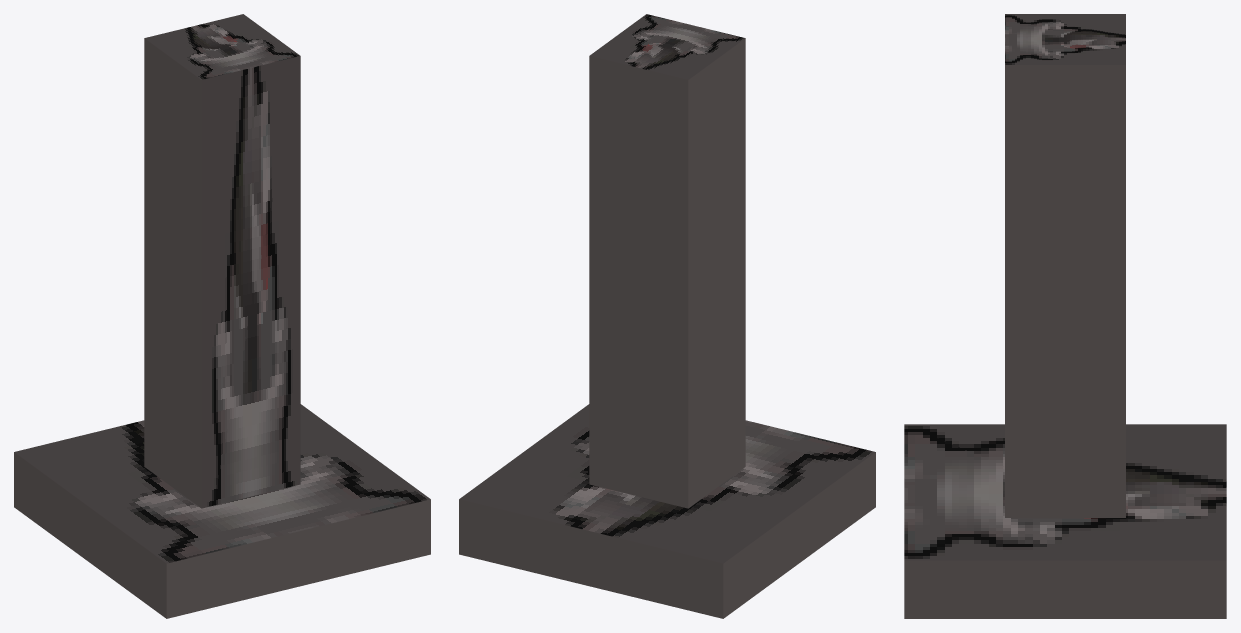
Rendered from Building_ShardBeacon.glb.
3 renders of one model, left to right at view 1: azimuth 30°, elevation 25°; view 2: azimuth 150°, elevation 25°; view 3: azimuth 270°, elevation 25°, orthographic. The views are drawn at different scales.
Parts seen in each view (by area): view 1: ShardBeacon; view 2: ShardBeacon; view 3: ShardBeacon.
Part boxes in pixels (bbox=[...]): ShardBeacon: bbox=[14, 14, 430, 618]; ShardBeacon: bbox=[459, 14, 875, 618]; ShardBeacon: bbox=[904, 14, 1226, 618].
Bounding box in the file's own units: 0.8 × 1.4 × 0.8.
Materials: 1 (1 with a texture image).
